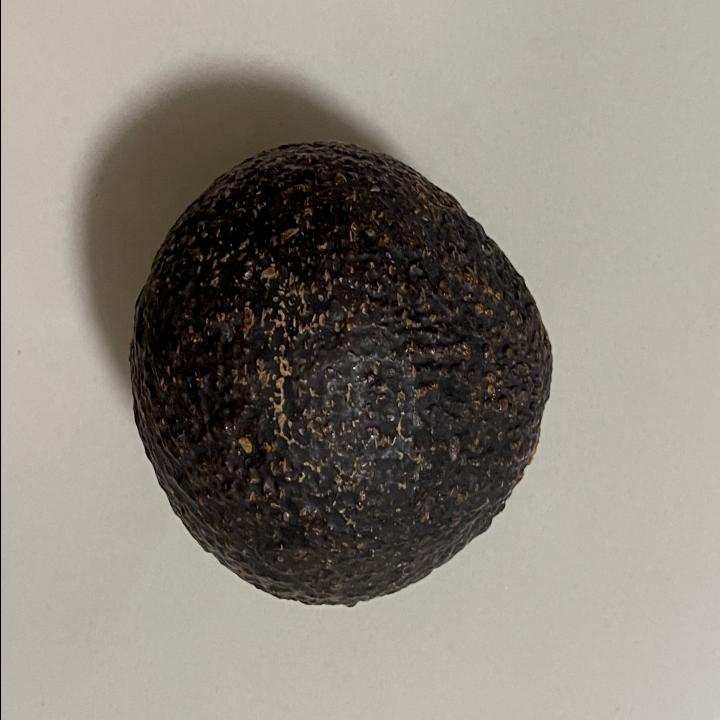Level3: (120, 126, 562, 618)
